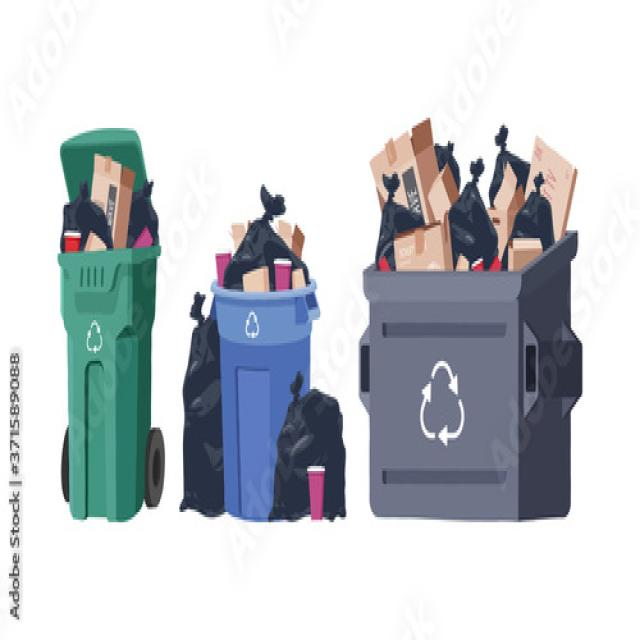cardboard: (375, 146, 442, 205), (531, 138, 576, 218), (94, 161, 136, 238), (242, 269, 267, 302), (280, 220, 302, 256), (225, 220, 246, 246), (293, 261, 305, 297)
plastic: (304, 463, 332, 528), (274, 256, 290, 297)
trash: (192, 292, 223, 507), (289, 384, 338, 448), (462, 164, 493, 258), (498, 130, 520, 190), (62, 187, 94, 228), (142, 177, 159, 246)
